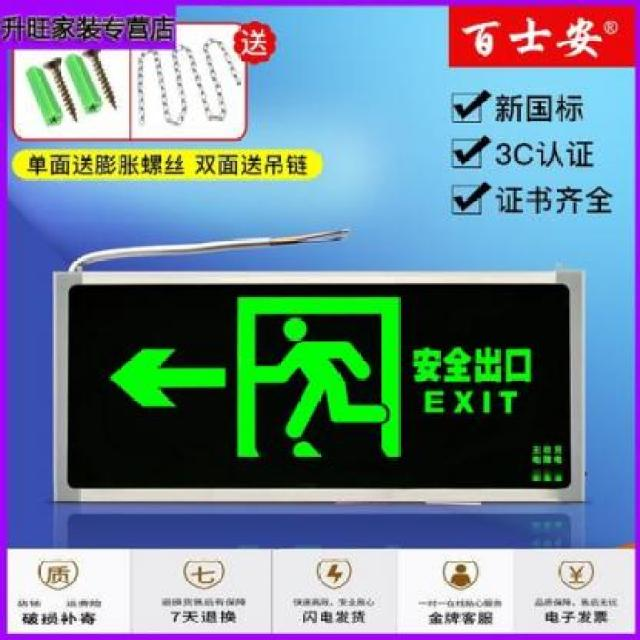exit_sign: (47, 263, 586, 514)
